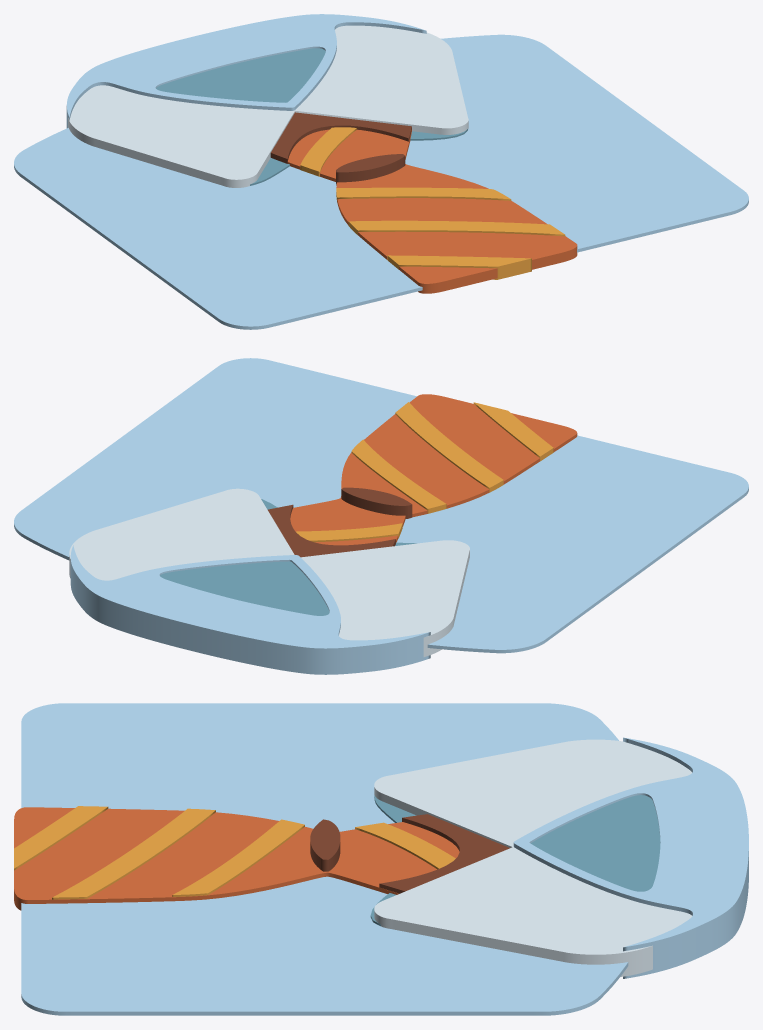
Rendered from emoji_u1f454.glb.
The picture shows the model from 3 angles, top to bottom: view 1: azimuth 30°, elevation 25°; view 2: azimuth 150°, elevation 25°; view 3: azimuth 270°, elevation 25°; orthographic projection. The views are drawn at different scales.
Visible parts, largest first — view 1: emoji_u1f454; view 2: emoji_u1f454; view 3: emoji_u1f454.
Boxes of the visible parts, x1,y1,x2,y2 form: emoji_u1f454: (14, 14, 748, 329); emoji_u1f454: (14, 358, 748, 674); emoji_u1f454: (14, 703, 748, 1015).
Size of the model in its own units: 0.0334 by 0.0018 by 0.0336.
